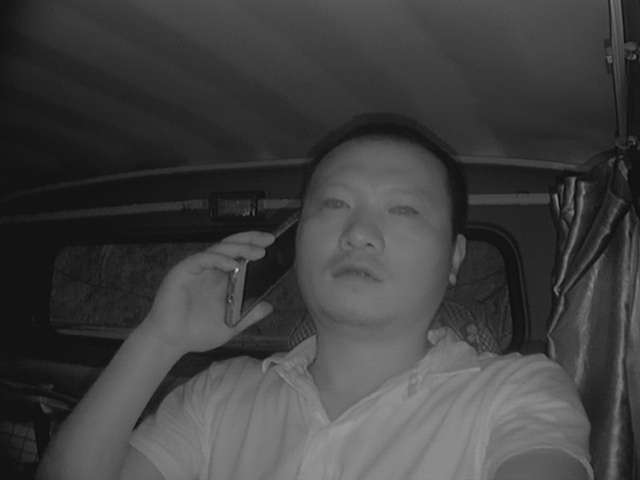hand: (161, 229, 278, 344)
